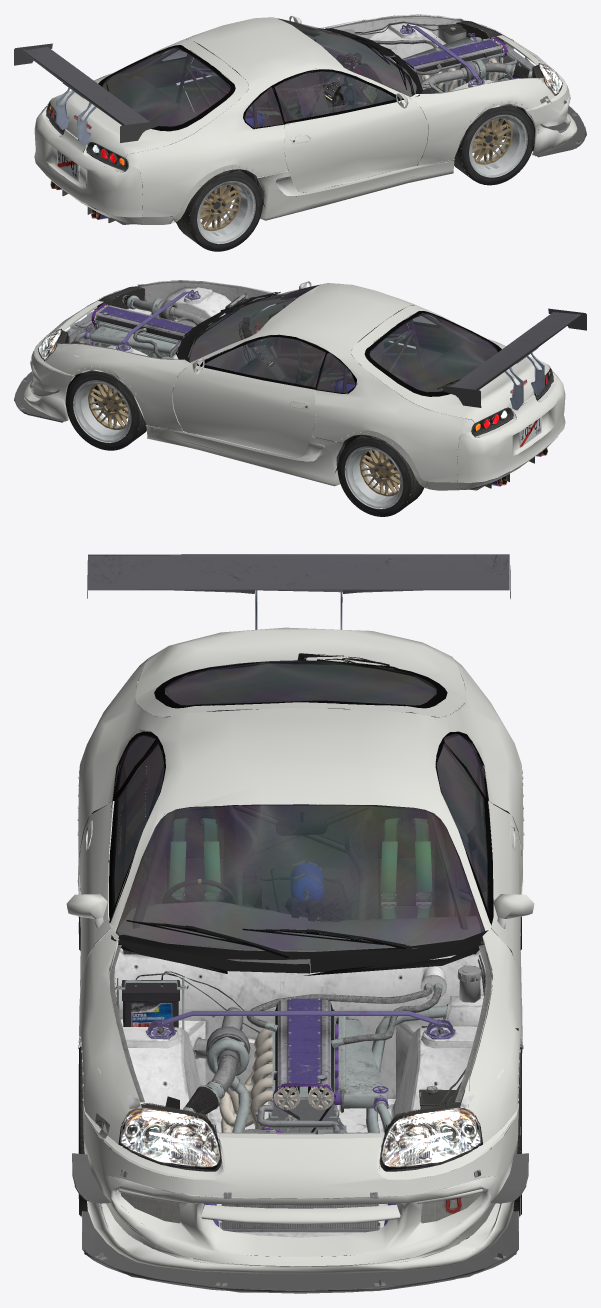
File: veh-drift.glb
3 views of the same model, one above another, from view 1: azimuth 30°, elevation 25°; view 2: azimuth 150°, elevation 25°; view 3: azimuth 270°, elevation 25° (orthographic). The views are drawn at different scales.
Visible parts, largest first — view 1: Main_Body_Livery_0, glass_Glass_0, Doors_Livery_0, interior.002_interior1_0, Rear_Bumper_Livery_0, Front_Sides_Livery_0, Circle.054_wheel_0, Circle.056_wheel_0, Trunk_Livery_0, engine bay_engine bay_0, Spoiler_Spoiler_0, Skirts_Livery_0 (+19 smaller); view 2: Main_Body_Livery_0, glass_Glass_0, Doors_Livery_0, interior.002_interior1_0, Rear_Bumper_Livery_0, Front_Sides_Livery_0, Circle.077_wheel_0, Circle.080_wheel_0, Trunk_Livery_0, Spoiler_Spoiler_0, engine bay_engine bay_0, Skirts_Livery_0 (+17 smaller); view 3: glass_Glass_0, Front_Bumper_Livery_0, Main_Body_Livery_0, engine bay_engine bay_0, interior.002_interior1_0, Cube.004_Engine2_0, Spoiler_Spoiler_0, Front_Sides_Livery_0, Trunk_Livery_0, Front Spoiler_front spoiler_0, Seat.001_seat_0, headlights_headlights_0 (+11 smaller).
Part boxes in pixels (left/top/right/bottom): Main_Body_Livery_0: left=48, top=17, right=409, bottom=224; glass_Glass_0: left=102, top=19, right=411, bottom=127; Doors_Livery_0: left=284, top=97, right=428, bottom=192; interior.002_interior1_0: left=103, top=31, right=416, bottom=196; Rear_Bumper_Livery_0: left=34, top=105, right=142, bottom=224; Front_Sides_Livery_0: left=323, top=15, right=554, bottom=166; Circle.054_wheel_0: left=176, top=170, right=262, bottom=251; Circle.056_wheel_0: left=454, top=105, right=534, bottom=185; Trunk_Livery_0: left=50, top=39, right=248, bottom=157; engine bay_engine bay_0: left=324, top=15, right=562, bottom=148; Spoiler_Spoiler_0: left=14, top=43, right=158, bottom=145; Skirts_Livery_0: left=257, top=159, right=454, bottom=220; Main_Body_Livery_0: left=190, top=283, right=552, bottom=490; glass_Glass_0: left=189, top=285, right=497, bottom=393; Doors_Livery_0: left=172, top=363, right=315, bottom=458; interior.002_interior1_0: left=188, top=299, right=496, bottom=461; Rear_Bumper_Livery_0: left=457, top=370, right=565, bottom=489; Front_Sides_Livery_0: left=45, top=280, right=273, bottom=431; Circle.077_wheel_0: left=337, top=435, right=423, bottom=516; Circle.080_wheel_0: left=66, top=370, right=146, bottom=450; Trunk_Livery_0: left=351, top=305, right=549, bottom=422; Spoiler_Spoiler_0: left=442, top=308, right=586, bottom=410; engine bay_engine bay_0: left=38, top=281, right=272, bottom=418; Skirts_Livery_0: left=145, top=425, right=343, bottom=486; glass_Glass_0: left=113, top=661, right=488, bottom=950; Front_Bumper_Livery_0: left=82, top=1103, right=518, bottom=1273; Main_Body_Livery_0: left=78, top=658, right=523, bottom=932; engine bay_engine bay_0: left=108, top=941, right=491, bottom=1243; interior.002_interior1_0: left=92, top=660, right=511, bottom=969; Cube.004_Engine2_0: left=115, top=955, right=487, bottom=1232; Spoiler_Spoiler_0: left=87, top=554, right=510, bottom=629; Front_Sides_Livery_0: left=78, top=928, right=522, bottom=1144; Trunk_Livery_0: left=135, top=627, right=466, bottom=717; Front Spoiler_front spoiler_0: left=72, top=1153, right=528, bottom=1293; Seat.001_seat_0: left=344, top=805, right=468, bottom=919; headlights_headlights_0: left=118, top=1107, right=482, bottom=1169.
Size of the model in its own units: 595 by 170 by 242.
Materials: 31 (23 with a texture image).
